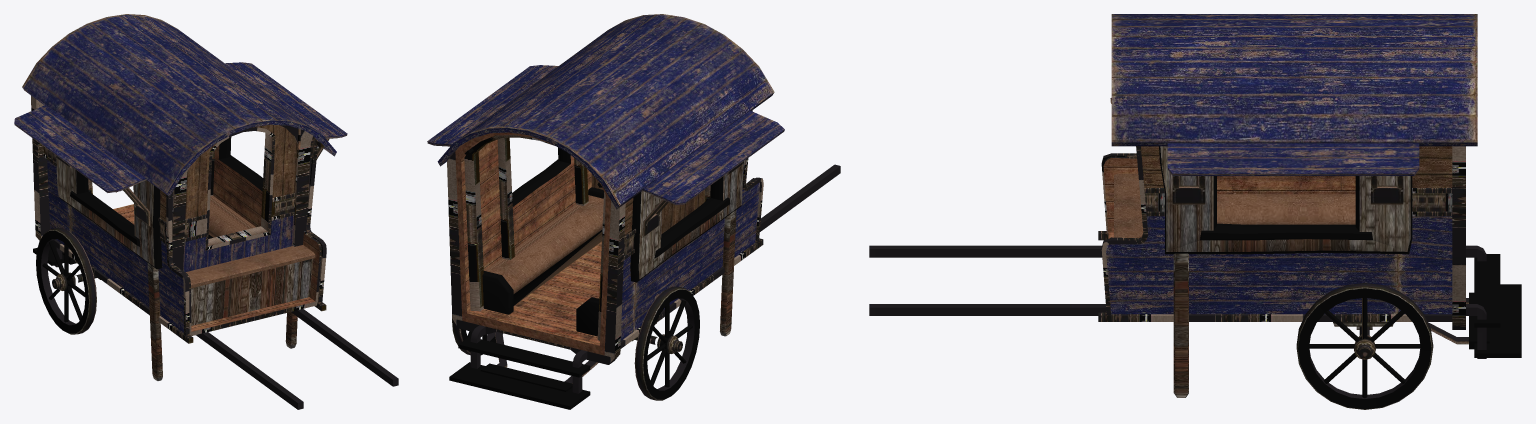
The model's file is o_mdl_env_propWagonWoodEWheel-transformed.glb.
3 views of the same model, side by side, from view 1: azimuth 30°, elevation 25°; view 2: azimuth 150°, elevation 25°; view 3: azimuth 270°, elevation 25° (orthographic). The views are drawn at different scales.
Visible parts, largest first — view 1: default; view 2: default; view 3: default.
Boxes of the visible parts, x1,y1,x2,y2 form: default: [14, 14, 398, 409]; default: [427, 14, 840, 409]; default: [869, 14, 1521, 409].
Size of the model in its own units: 2.96 by 3.07 by 5.55.
Materials: 5 (5 with a texture image).
